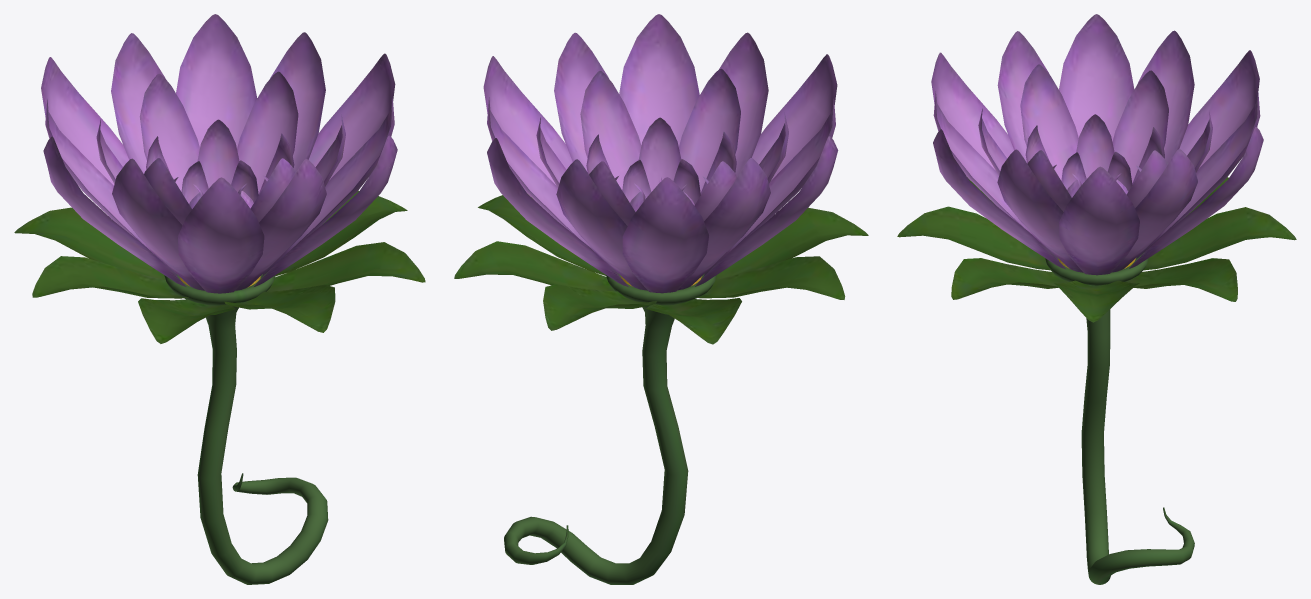
File: prop_lotus.glb
3 views of the same model, side by side, from view 1: azimuth 30°, elevation 25°; view 2: azimuth 150°, elevation 25°; view 3: azimuth 270°, elevation 25° (orthographic). The views are drawn at different scales.
Parts seen in each view (by area): view 1: Flower_Lotus-Stylized; view 2: Flower_Lotus-Stylized; view 3: Flower_Lotus-Stylized.
Part boxes in pixels (box(x1,y1,x2,y2)): Flower_Lotus-Stylized: box(14, 14, 425, 584); Flower_Lotus-Stylized: box(454, 14, 868, 584); Flower_Lotus-Stylized: box(897, 14, 1296, 584).
Size of the model in its own units: 0.4656 by 0.6 by 0.4656.
Materials: 1 (1 with a texture image).
